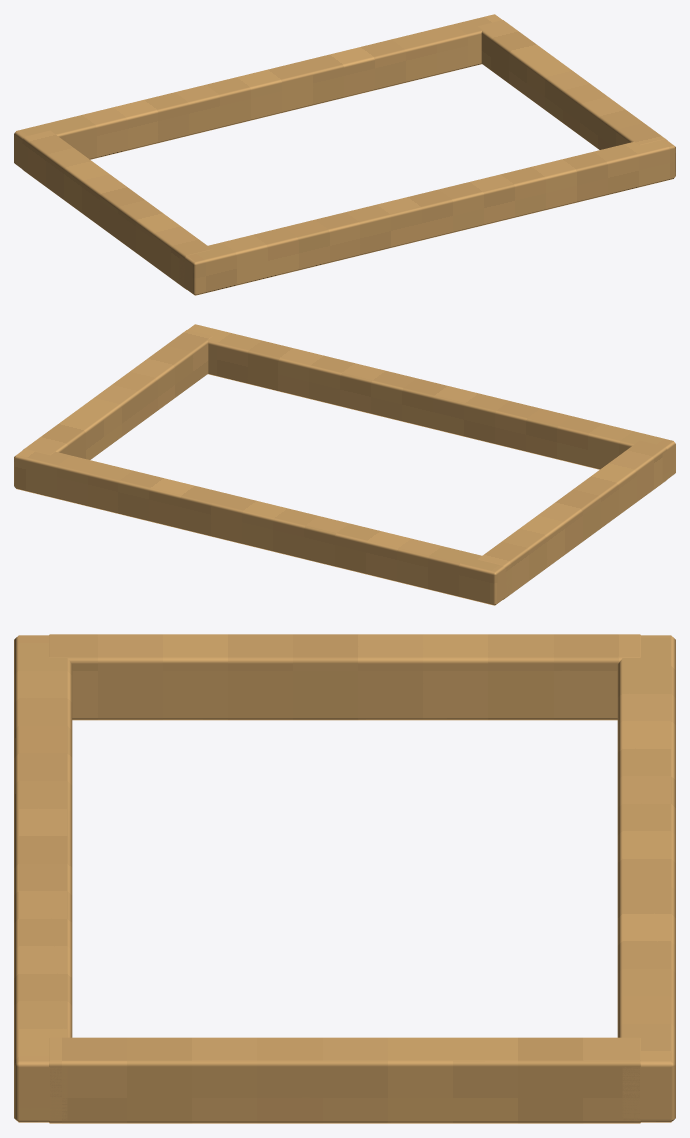
Rendered from Rolled-rim.glb.
3 renders of one model, top to bottom at view 1: azimuth 30°, elevation 25°; view 2: azimuth 150°, elevation 25°; view 3: azimuth 270°, elevation 25°, orthographic. The views are drawn at different scales.
Visible parts, largest first — view 1: Rolled-rim; view 2: Rolled-rim; view 3: Rolled-rim.
Boxes of the visible parts, x1,y1,x2,y2 form: Rolled-rim: [14, 14, 675, 295]; Rolled-rim: [14, 324, 675, 605]; Rolled-rim: [14, 634, 675, 1123].
Bounding box in the file's own units: 0.61 × 0.042 × 0.397.
1 material, 1 textured.
